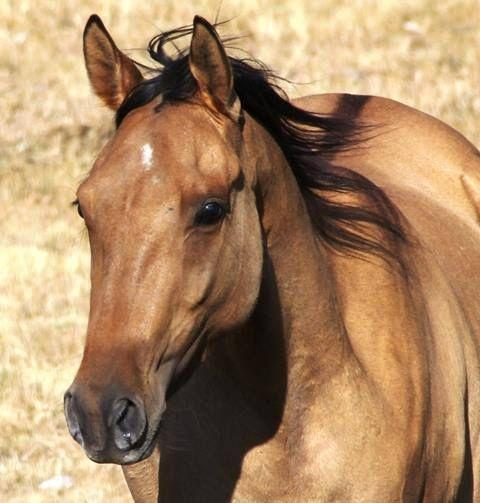horse: (62, 10, 479, 502)
